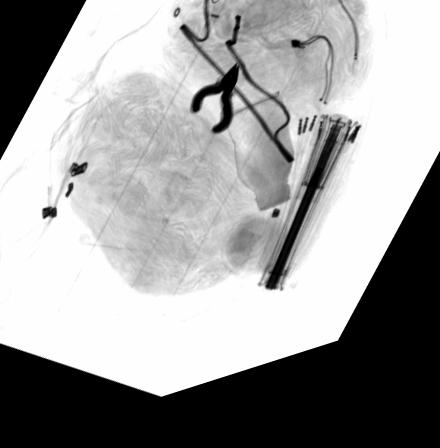Pliers: (188, 76, 240, 148)
